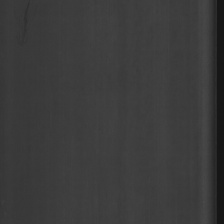water_spot: (15, 0, 40, 51)
